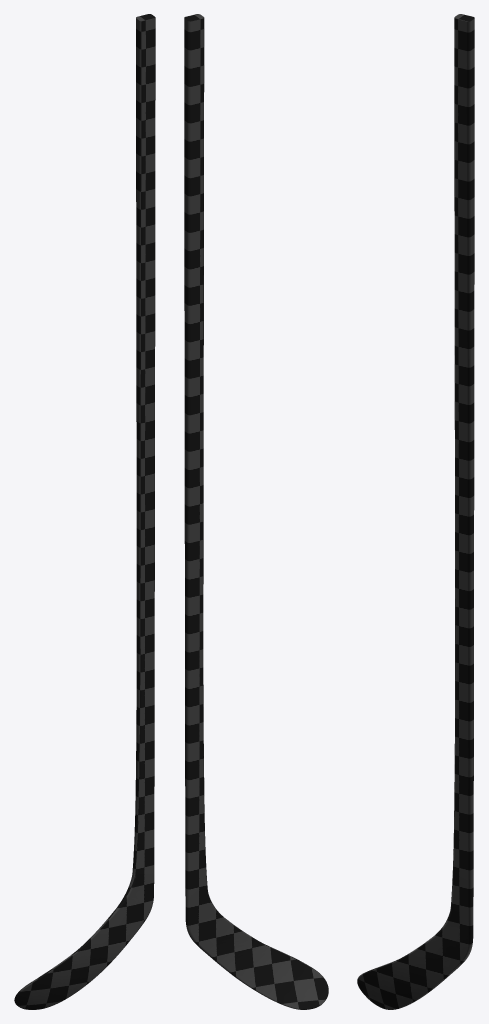
3 views of the same model, side by side, from view 1: azimuth 30°, elevation 25°; view 2: azimuth 210°, elevation 25°; view 3: azimuth 330°, elevation 25° (orthographic). The views are drawn at different scales.
Visible parts, largest first — view 1: geometry_0; view 2: geometry_0; view 3: geometry_0.
Boxes of the visible parts, <box> form: geometry_0: <box>14,14,155,1009</box>; geometry_0: <box>184,14,328,1009</box>; geometry_0: <box>357,14,474,1009</box>.
Size of the model in its own units: 219 by 1650 by 62.21.
Materials: 1 (1 with a texture image).
